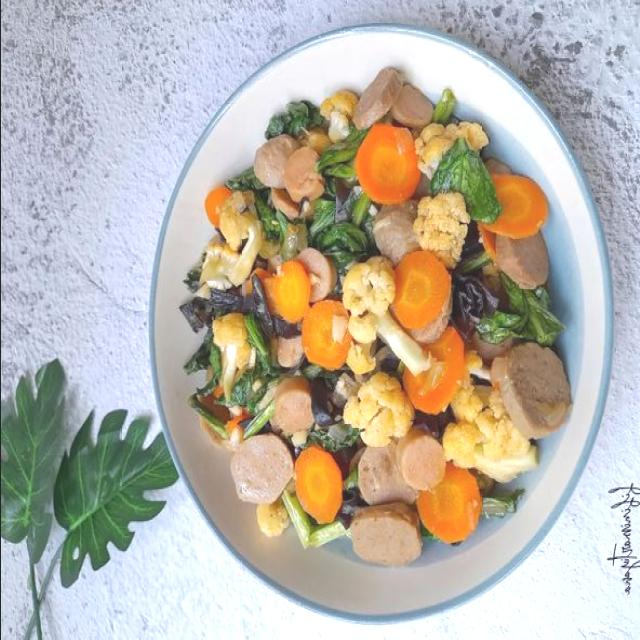capcay: (178, 63, 574, 568)
